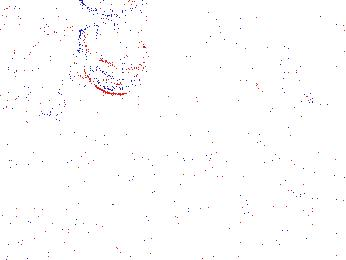moon jellyfish: (222, 1, 346, 101), (78, 29, 160, 96), (22, 27, 81, 116)
